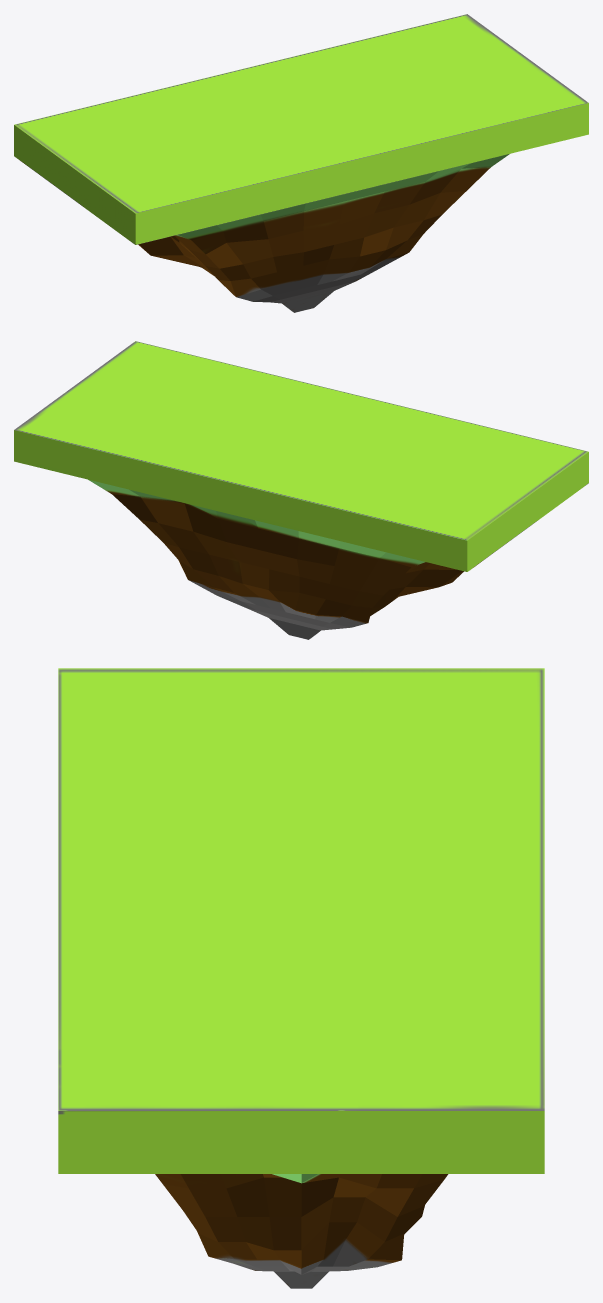
The model's file is speedBlock.obj.
The picture shows the model from 3 angles, top to bottom: view 1: azimuth 30°, elevation 25°; view 2: azimuth 150°, elevation 25°; view 3: azimuth 270°, elevation 25°; orthographic projection. The views are drawn at different scales.
Parts seen in each view (by area): view 1: Cube_Cube.001; view 2: Cube_Cube.001; view 3: Cube_Cube.001.
Boxes of the visible parts, x1,y1,x2,y2 form: Cube_Cube.001: [14, 14, 588, 312]; Cube_Cube.001: [14, 341, 588, 639]; Cube_Cube.001: [58, 668, 544, 1288].
Size of the model in its own units: 16.89 by 6.93 by 7.84.
